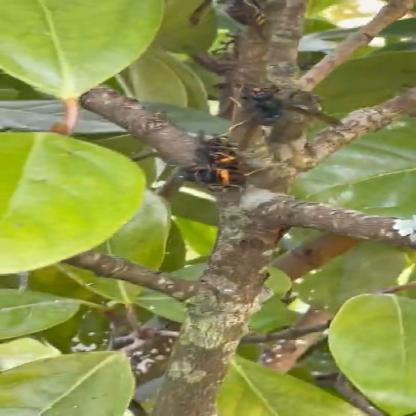bee: (213, 76, 352, 150), (171, 115, 269, 210)
